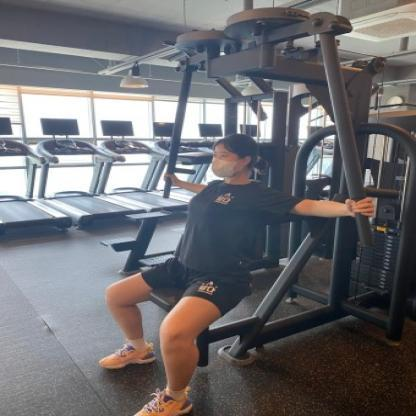chest fly machine: (54, 4, 415, 416)
